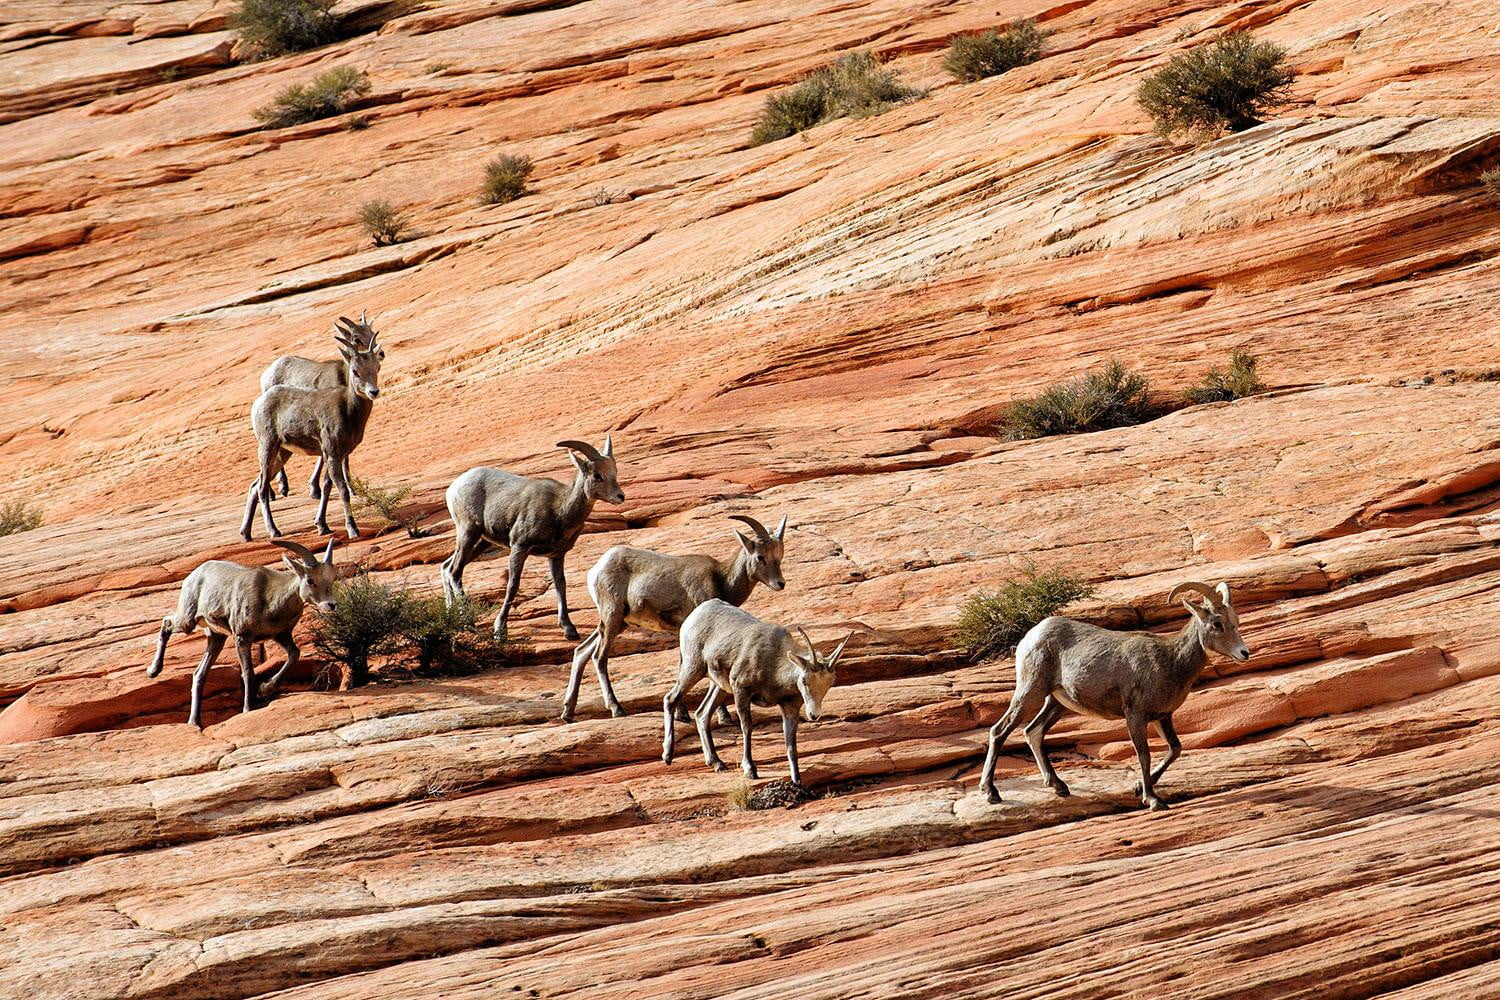sheep: (975, 573, 1249, 809), (567, 516, 792, 721), (145, 533, 349, 735), (437, 439, 628, 651), (240, 328, 402, 548), (661, 592, 843, 783), (254, 301, 387, 506)
